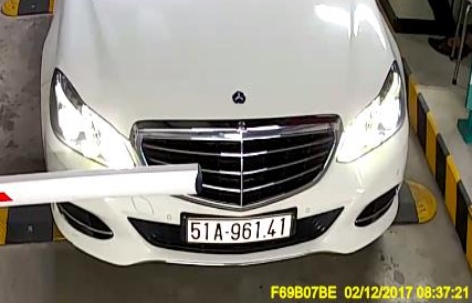plate: (182, 206, 298, 246)
